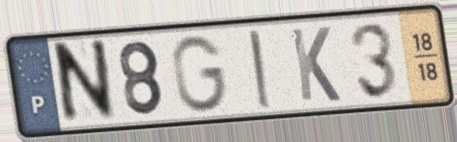3: (348, 21, 400, 100)
8: (117, 38, 167, 118)
G: (168, 33, 231, 115)
I: (245, 27, 276, 112)
K: (287, 25, 343, 104)
N: (54, 35, 119, 130)
